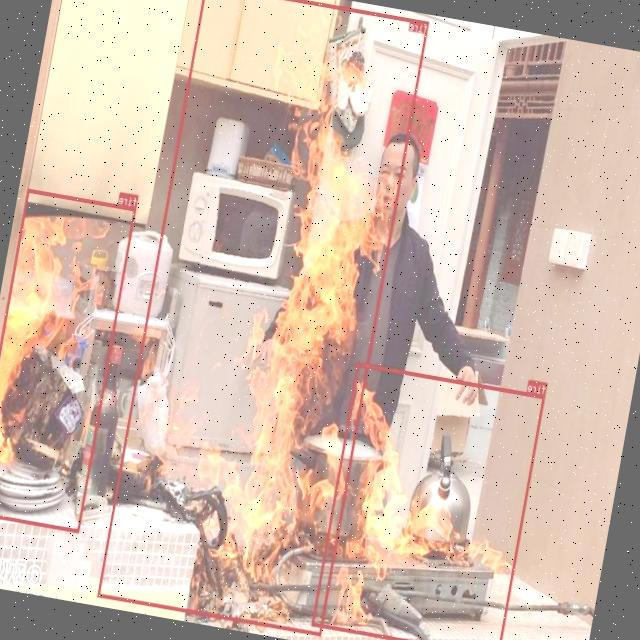fire: (97, 0, 429, 635), (311, 362, 545, 640), (0, 188, 137, 532)
